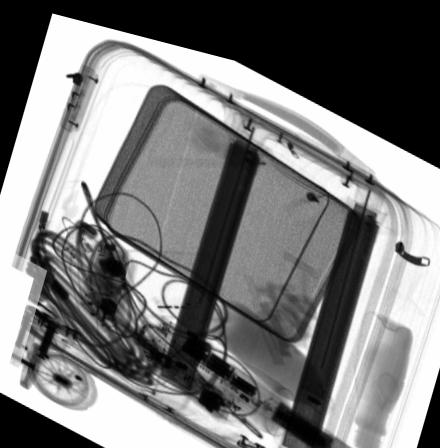Baton: (149, 305, 379, 448)
